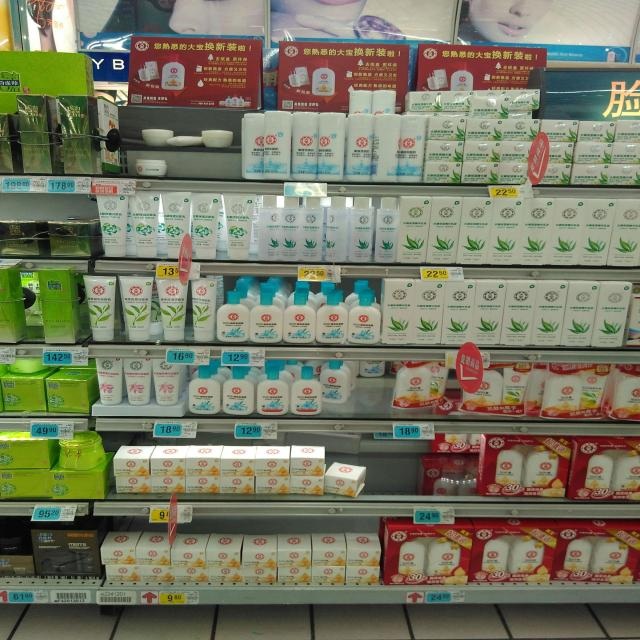void: (354, 362, 388, 438), (391, 436, 421, 517), (368, 439, 390, 517)
